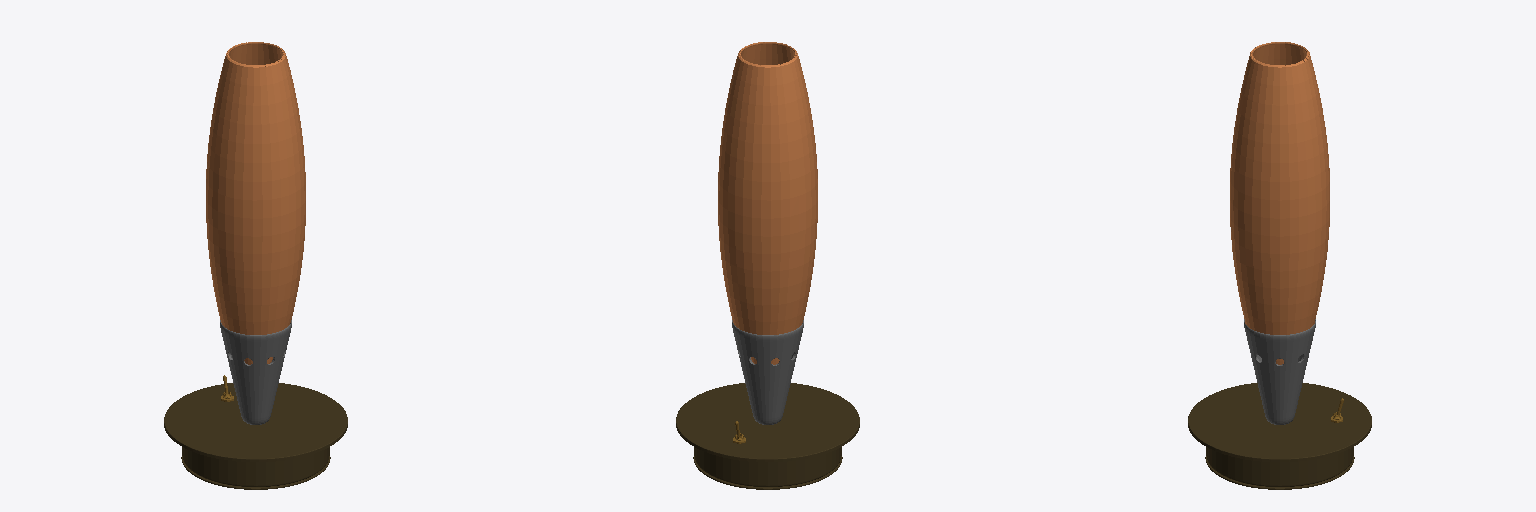
File: slamp.obj
The picture shows the model from 3 angles: view 1: azimuth 30°, elevation 25°; view 2: azimuth 150°, elevation 25°; view 3: azimuth 270°, elevation 25°; orthographic projection.
Parts seen in each view (by area): view 1: slamp_slim_bedroom_lamp; view 2: slamp_slim_bedroom_lamp; view 3: slamp_slim_bedroom_lamp.
Part boxes in pixels (x1,y1,x2,y2): slamp_slim_bedroom_lamp: (164, 42, 347, 489); slamp_slim_bedroom_lamp: (676, 42, 859, 489); slamp_slim_bedroom_lamp: (1188, 42, 1371, 489).
Bounding box in the file's own units: 0.0323 × 0.0784 × 0.0323.